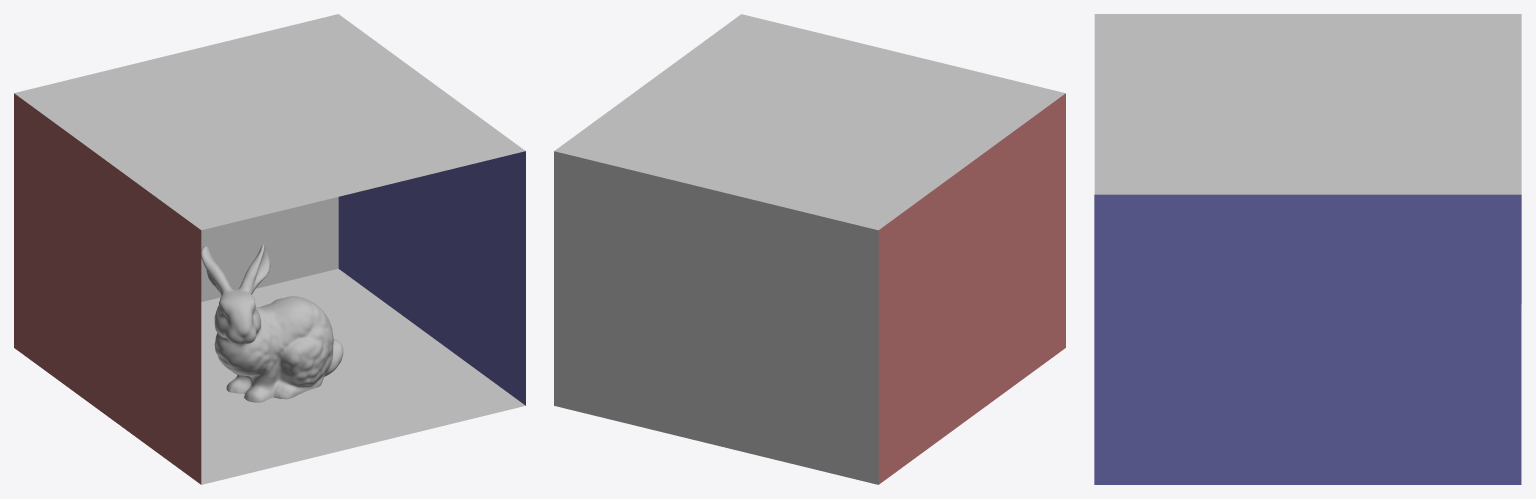
Rendered from newbunny1.dae.
The picture shows the model from 3 angles, left to right: view 1: azimuth 30°, elevation 25°; view 2: azimuth 150°, elevation 25°; view 3: azimuth 270°, elevation 25°; orthographic projection. The views are drawn at different scales.
Parts seen in each view (by area): view 1: ceiling, leftWall, floor, rightWall, Mesh, backWall; view 2: backWall, ceiling, leftWall; view 3: rightWall, ceiling.
Boxes of the visible parts, box(x1,y1,x2,y2) form: ceiling: box(14, 14, 525, 230); leftWall: box(14, 93, 201, 484); floor: box(201, 268, 525, 484); rightWall: box(338, 151, 525, 405); Mesh: box(201, 244, 343, 402); backWall: box(201, 197, 338, 301); backWall: box(554, 151, 878, 484); ceiling: box(554, 14, 1065, 230); leftWall: box(878, 93, 1065, 484); rightWall: box(1094, 194, 1521, 484); ceiling: box(1094, 14, 1521, 194).
Size of the model in its own units: 2 by 2 by 1.52.
